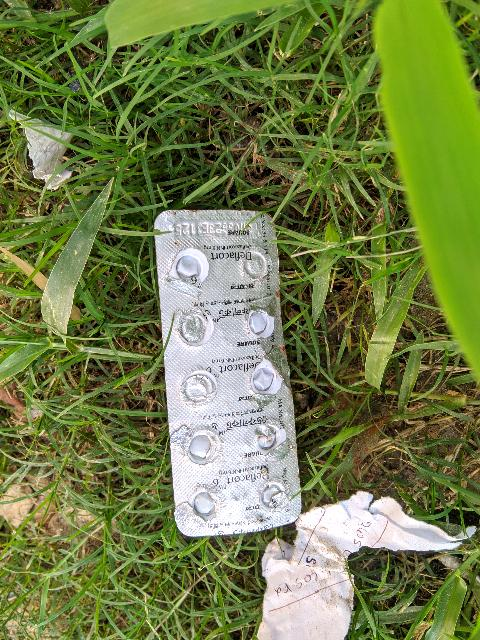medicine: (145, 194, 308, 539)
